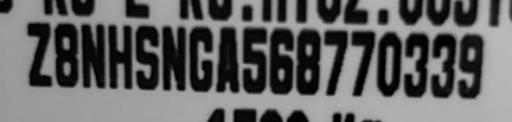letter: (240, 24, 268, 96), (266, 25, 294, 97), (321, 25, 349, 97), (456, 31, 484, 102), (295, 27, 323, 97), (348, 28, 376, 98), (375, 29, 403, 99), (429, 29, 457, 99), (25, 18, 53, 86), (52, 20, 80, 88), (106, 23, 134, 91), (160, 24, 188, 92), (187, 24, 215, 92), (214, 24, 242, 92), (402, 30, 430, 98), (79, 21, 107, 88), (134, 22, 160, 90)
